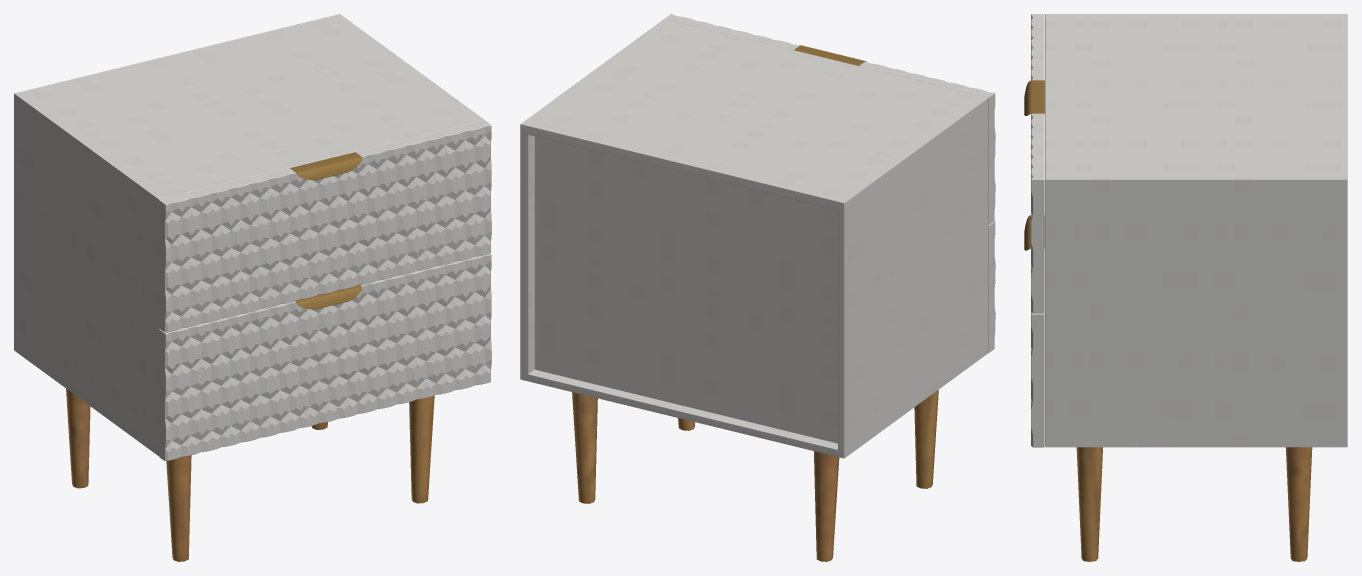
File: abo-B07HSH4ZR2.glb
3 renders of one model, left to right at view 1: azimuth 30°, elevation 25°; view 2: azimuth 150°, elevation 25°; view 3: azimuth 270°, elevation 25°, orthographic. The views are drawn at different scales.
Bounding box in the file's own units: 0.503 × 0.568 × 0.414.
Materials: 1 (1 with a texture image).
